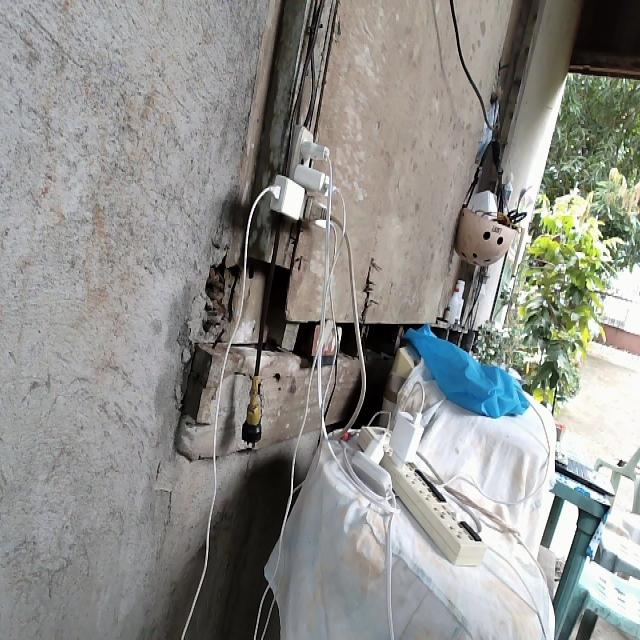-: (259, 123, 349, 235)
